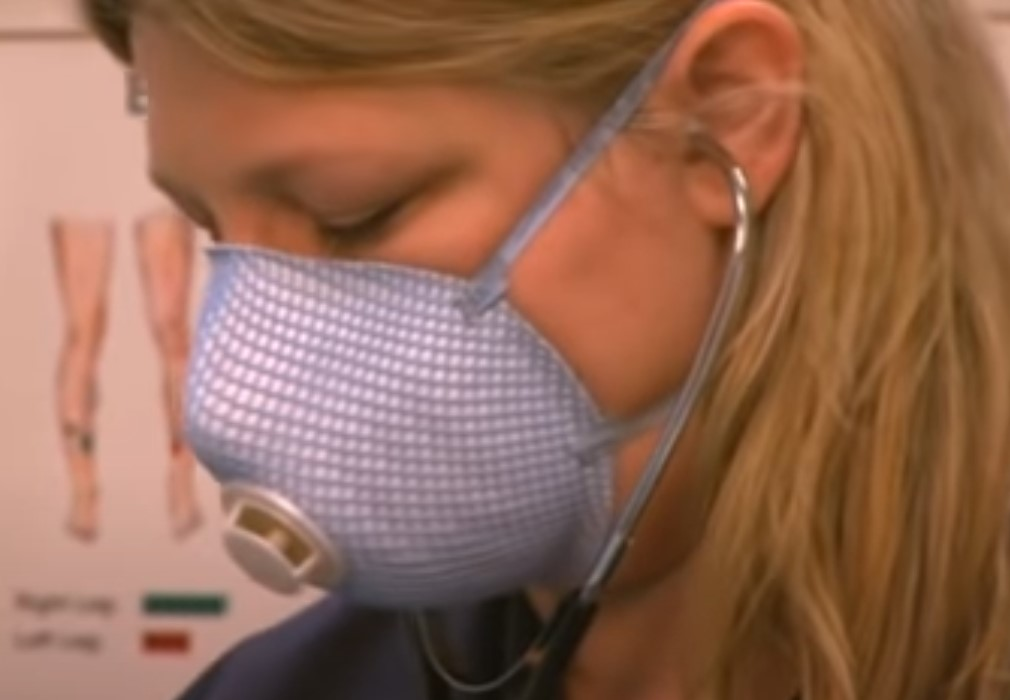face_with_mask: (153, 0, 725, 627)
